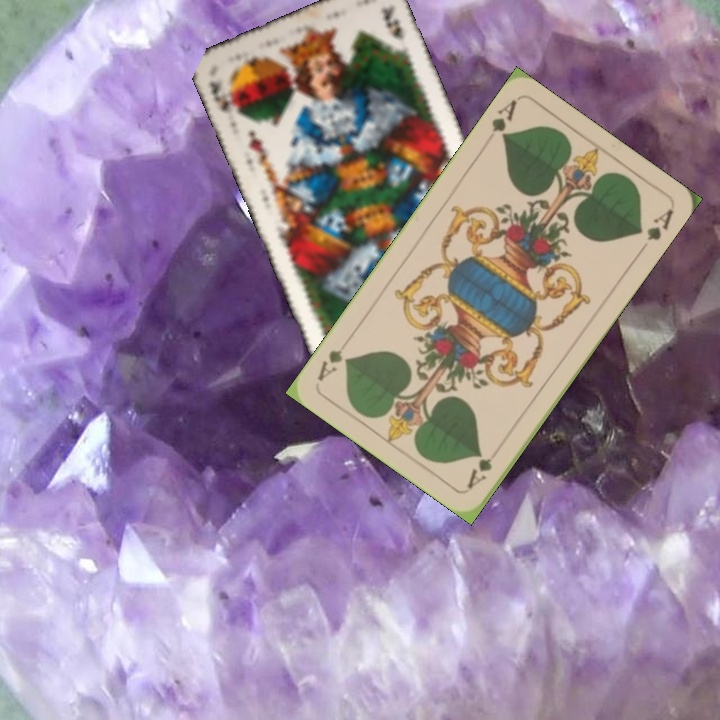GA: (463, 442, 505, 492), (487, 95, 520, 144)
SK: (204, 76, 246, 121)
